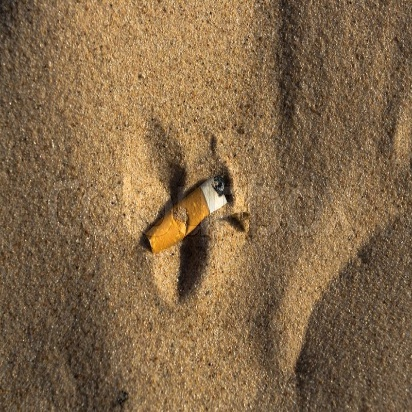cigarette: (139, 167, 232, 260)
